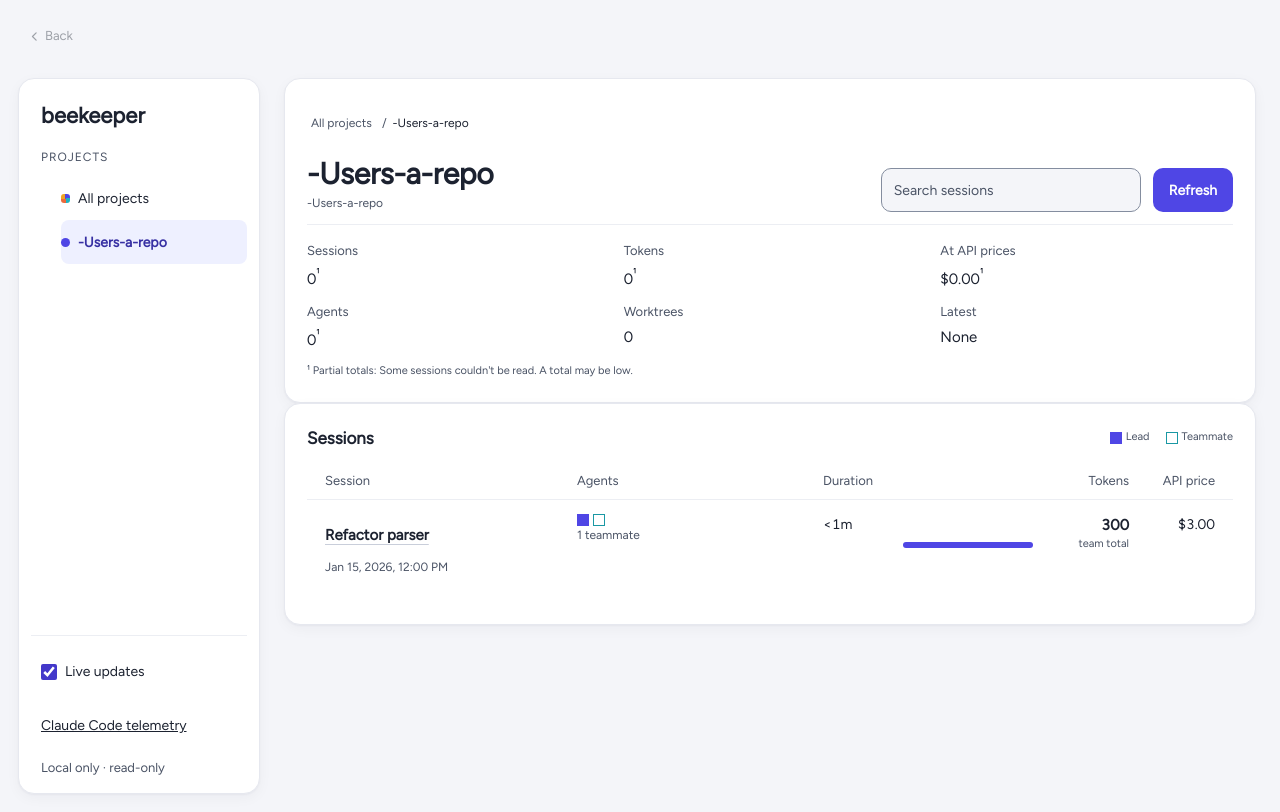
Test case: the Refresh button › shows and announces a failed refresh, with the button ready again, until a press succeeds
This screenshot has width=1280, height=812.
Expected: the heading "Refactor parser" is shown, x1=325 y1=514 x2=429 y2=558
What coordinates should you click on to do the following:
click the button "Refresh"
I would click on:
 (1193, 190)
Its box is x1=1153 y1=168 x2=1233 y2=212.
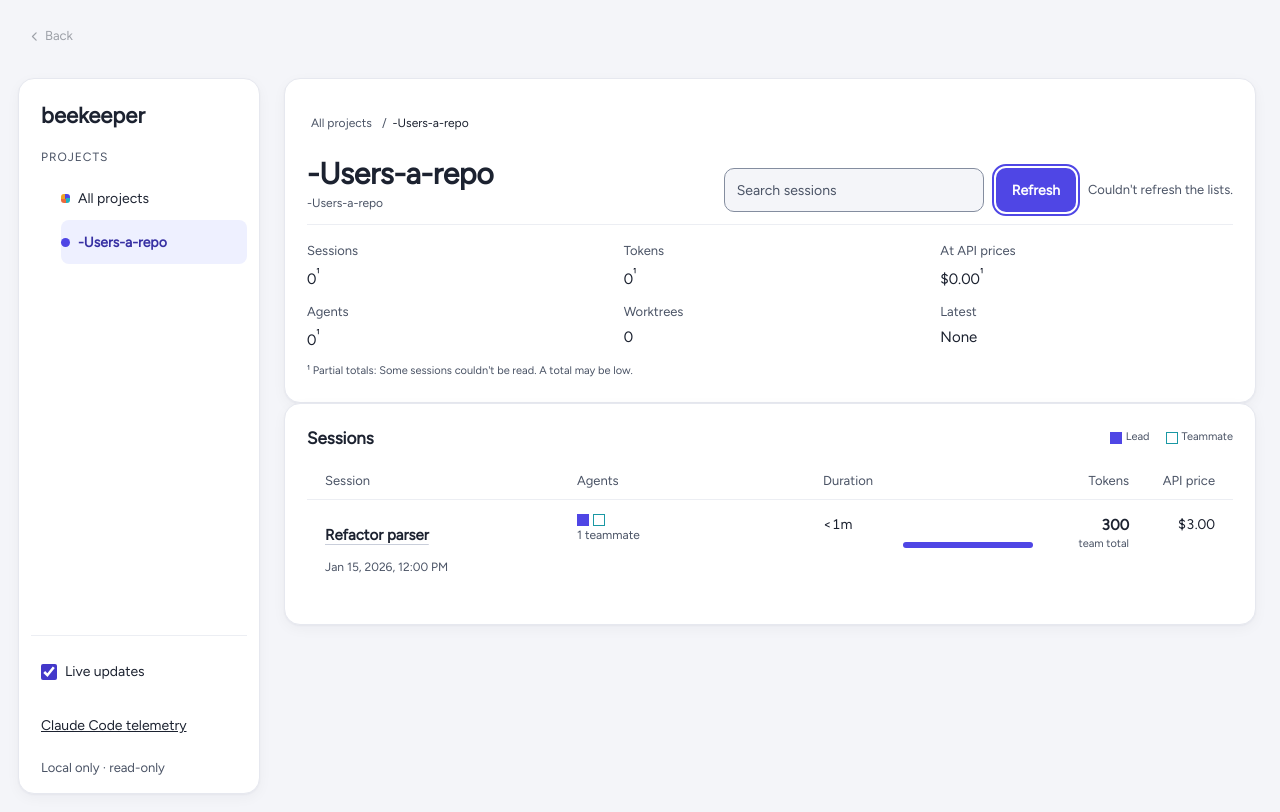
Expected: the text "Couldn't refresh the lists." is shown, x1=1088 y1=180 x2=1233 y2=200
What coordinates should you click on to do the following:
click the button "Refresh"
I would click on:
 (1036, 190)
Its box is x1=996 y1=168 x2=1076 y2=212.
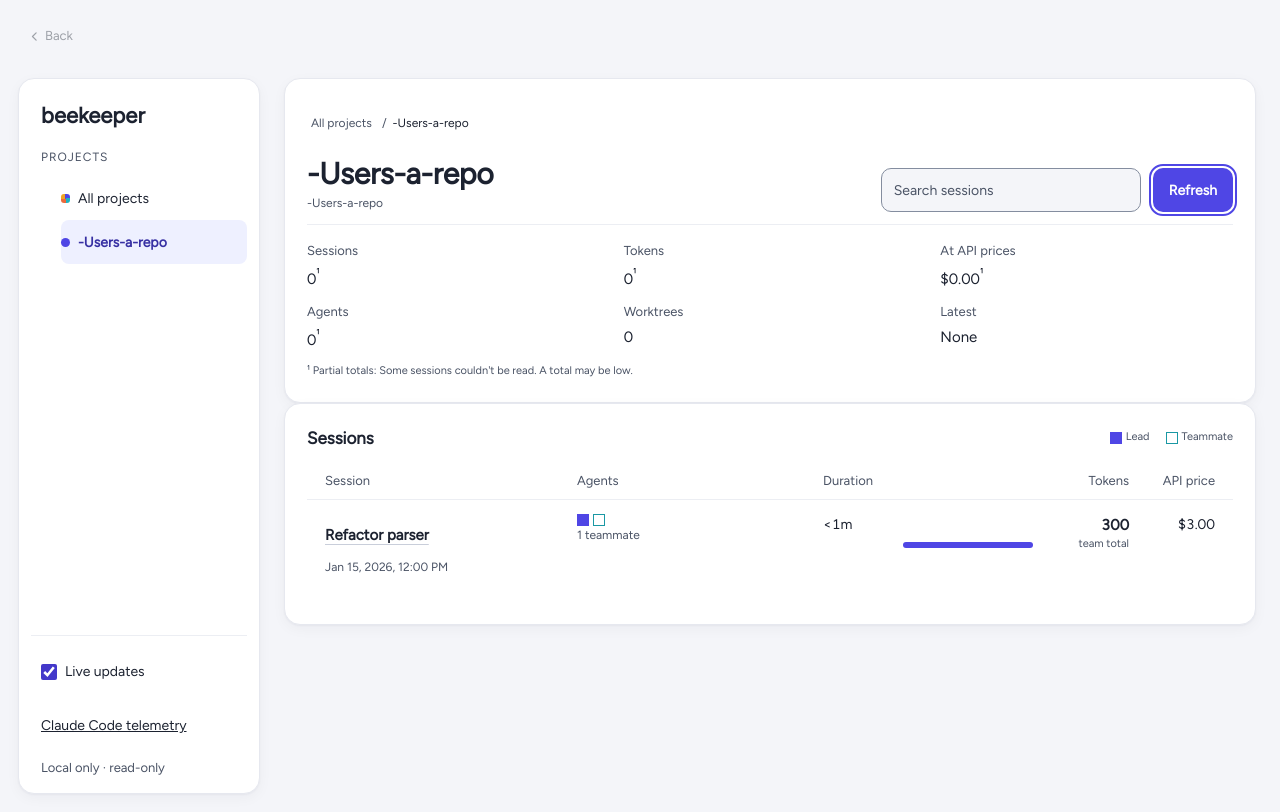
Expected: the text "Couldn't refresh the lists." is gone
